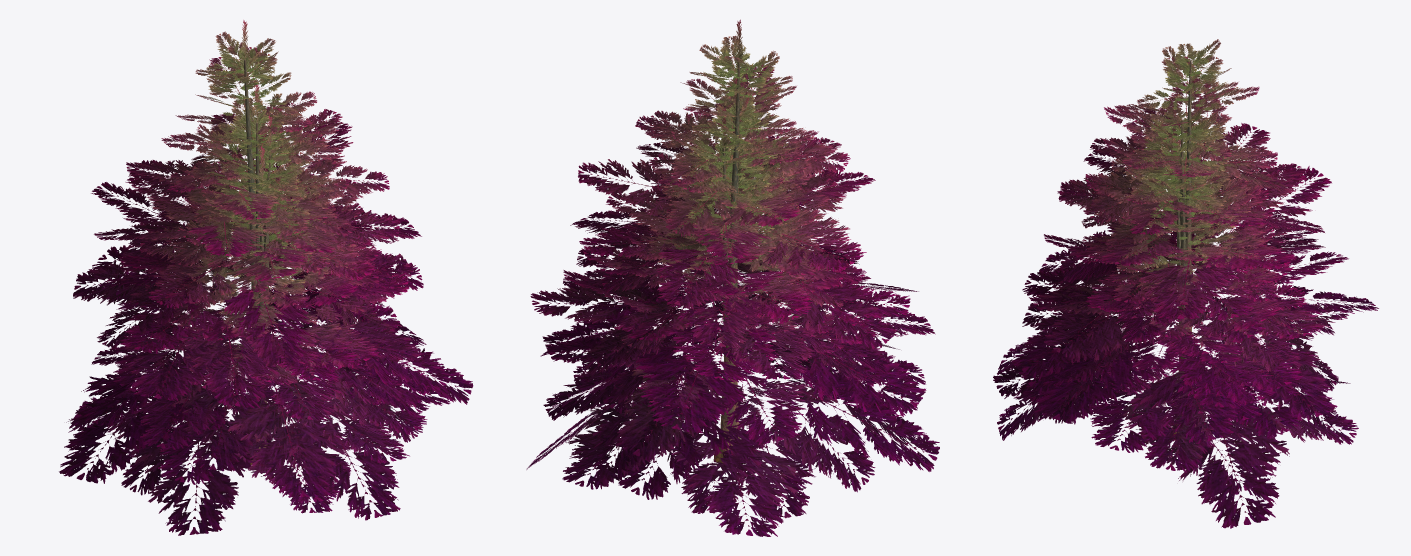
File: hero-pine-far.glb
3 views of the same model, side by side, from view 1: azimuth 30°, elevation 25°; view 2: azimuth 150°, elevation 25°; view 3: azimuth 270°, elevation 25° (orthographic). The views are drawn at different scales.
Parts seen in each view (by area): view 1: v2-leaf, v1-leaf, v3-leaf, v0-leaf, v2-wood; view 2: v2-leaf, v1-leaf, v0-leaf, v3-leaf, v2-wood; view 3: v2-leaf, v1-leaf, v3-leaf, v0-leaf, v2-wood.
Part boxes in pixels (left/top/right/bottom): v2-leaf: left=59, top=20, right=473, bottom=535; v1-leaf: left=83, top=84, right=426, bottom=497; v3-leaf: left=118, top=115, right=431, bottom=484; v0-leaf: left=68, top=146, right=450, bottom=513; v2-wood: left=244, top=59, right=257, bottom=464; v2-leaf: left=552, top=19, right=939, bottom=481; v1-leaf: left=526, top=78, right=926, bottom=499; v0-leaf: left=562, top=135, right=881, bottom=536; v3-leaf: left=542, top=108, right=917, bottom=462; v2-wood: left=715, top=63, right=740, bottom=462; v2-leaf: left=997, top=39, right=1378, bottom=440; v1-leaf: left=993, top=106, right=1348, bottom=528; v3-leaf: left=1023, top=137, right=1348, bottom=421; v0-leaf: left=1025, top=158, right=1358, bottom=494; v2-wood: left=1185, top=60, right=1193, bottom=387.
Bounding box in the file's own units: 24.07 × 26.87 × 23.52.
2 materials, 2 textured.
